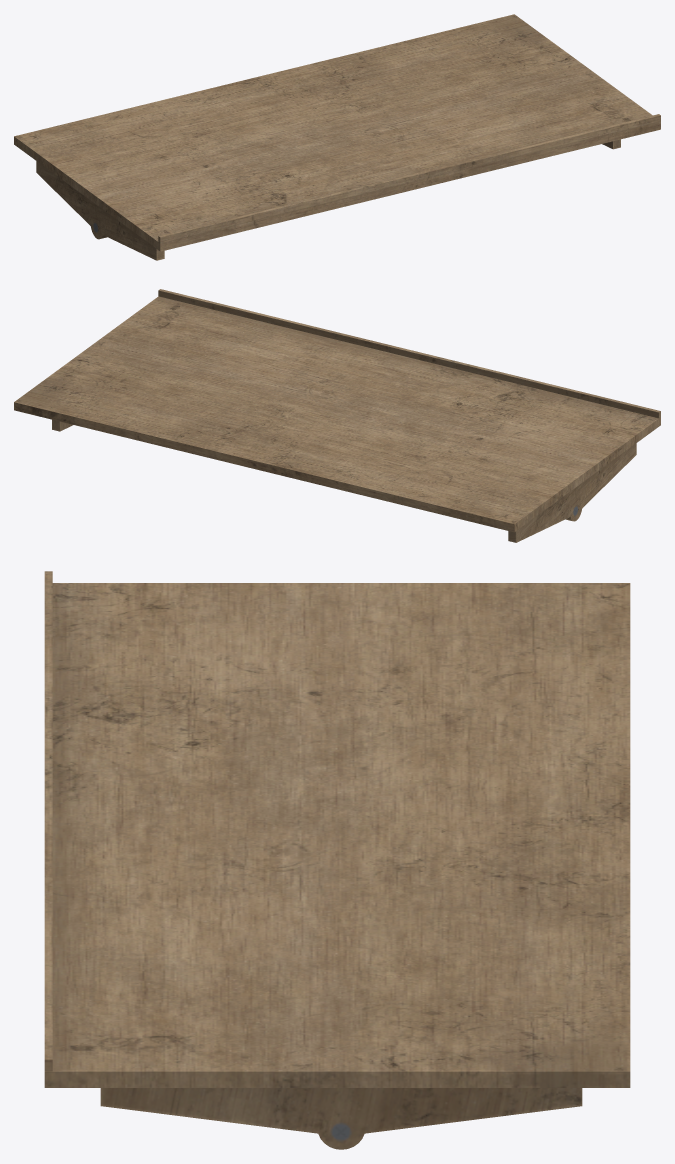
Rendered from SM_Drawing_Table_Table.glb.
3 views of the same model, one above another, from view 1: azimuth 30°, elevation 25°; view 2: azimuth 150°, elevation 25°; view 3: azimuth 270°, elevation 25° (orthographic). The views are drawn at different scales.
Parts seen in each view (by area): view 1: SM_Drawing_Table_Table; view 2: SM_Drawing_Table_Table; view 3: SM_Drawing_Table_Table.
Boxes of the visible parts, left/top/right/bottom form: SM_Drawing_Table_Table: left=14, top=14, right=660, bottom=260; SM_Drawing_Table_Table: left=14, top=289, right=660, bottom=542; SM_Drawing_Table_Table: left=44, top=571, right=630, bottom=1149.
Size of the model in its own units: 1.34 by 0.1484 by 0.6817.
1 material, 1 textured.
